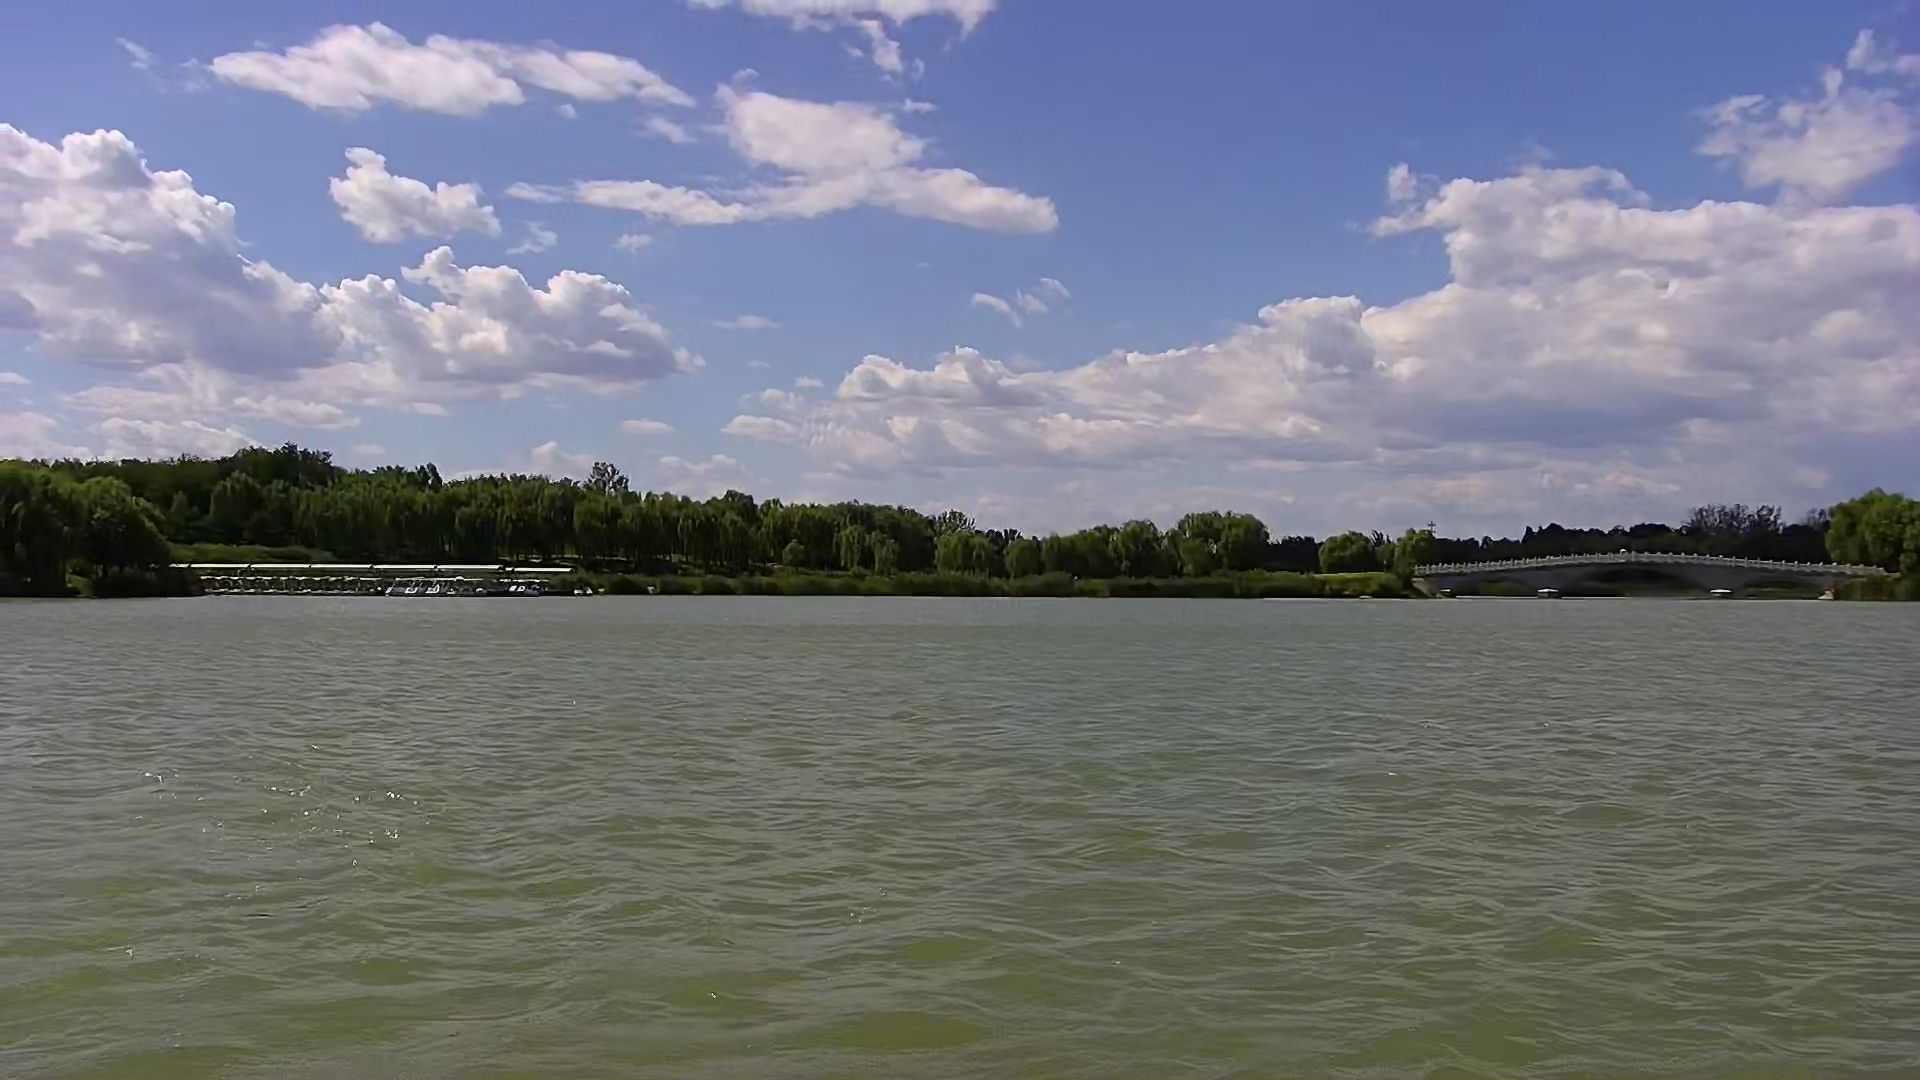bridge: (1412, 551, 1880, 607)
harbor: (169, 559, 576, 603)
